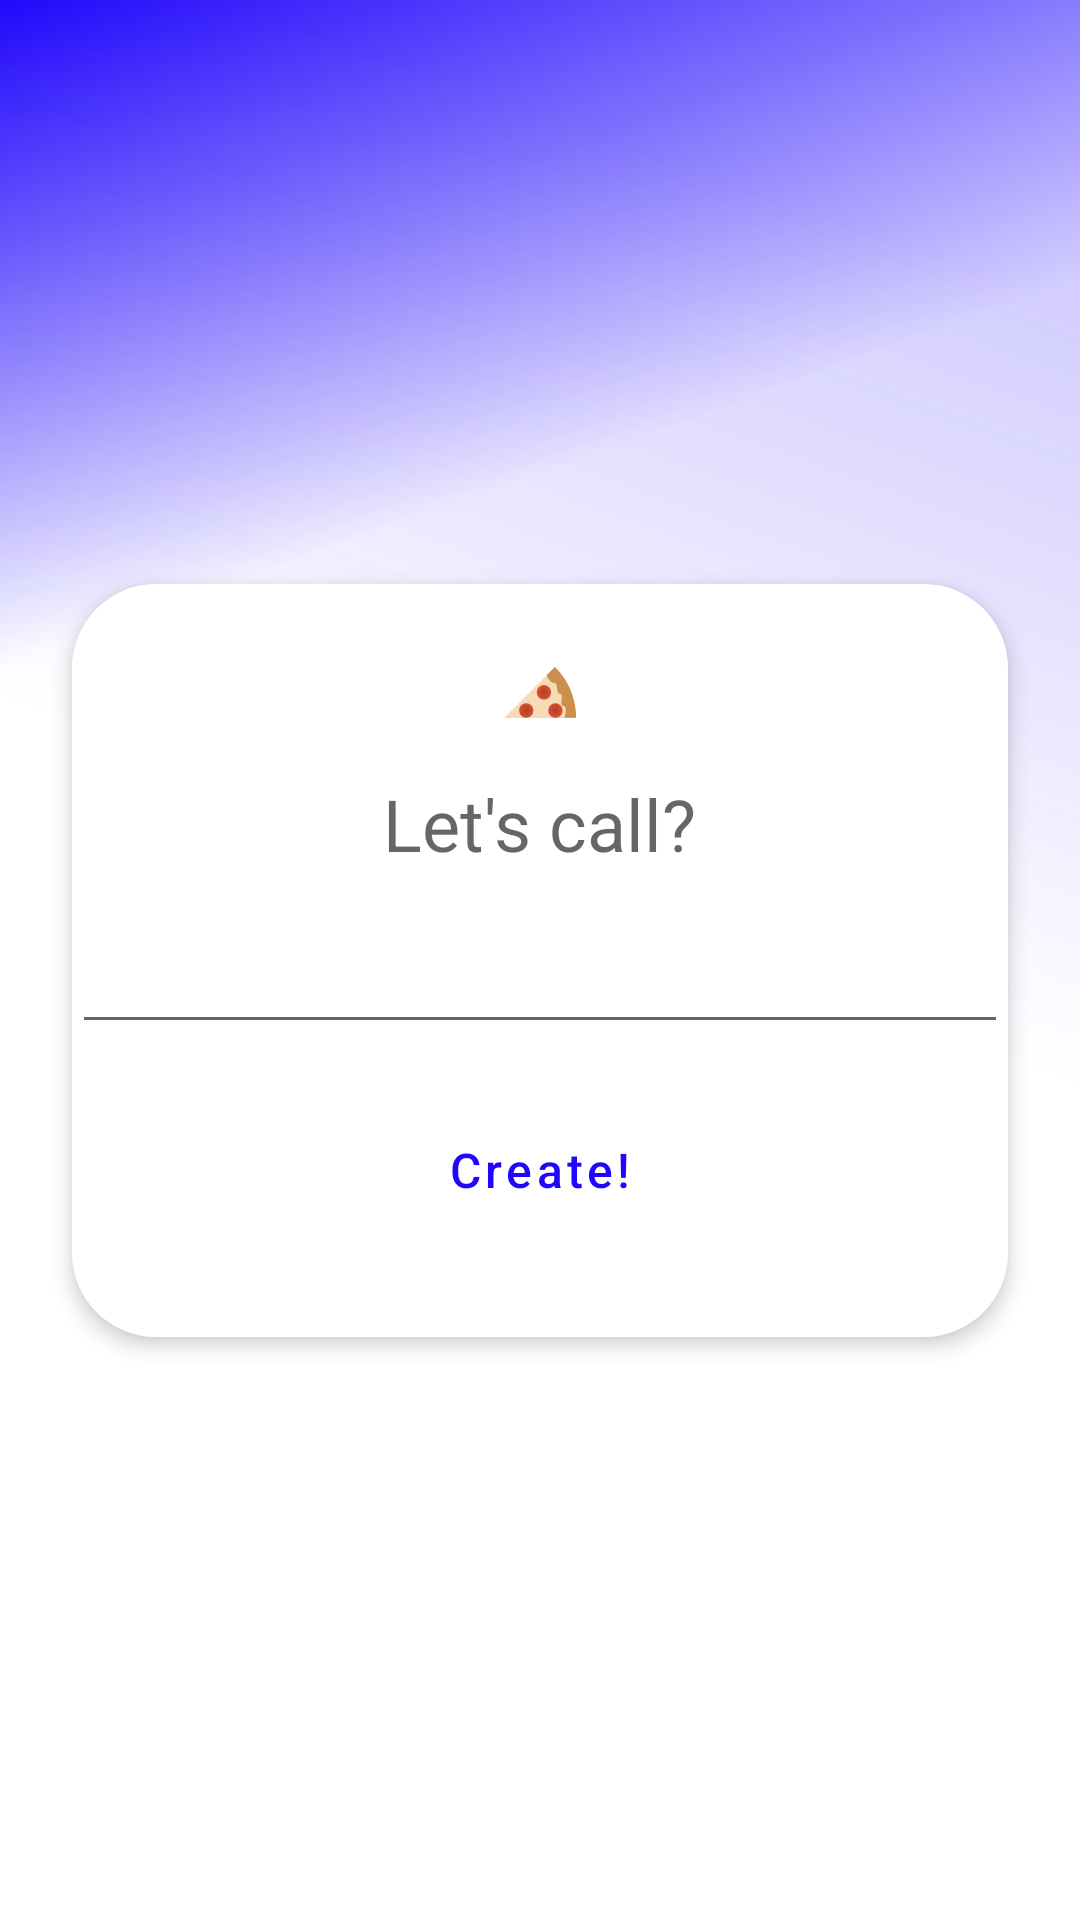

Icons on this 1080 x 1920 Android screen, each with the point to tap as (x,y):
pizza: (540,692)
